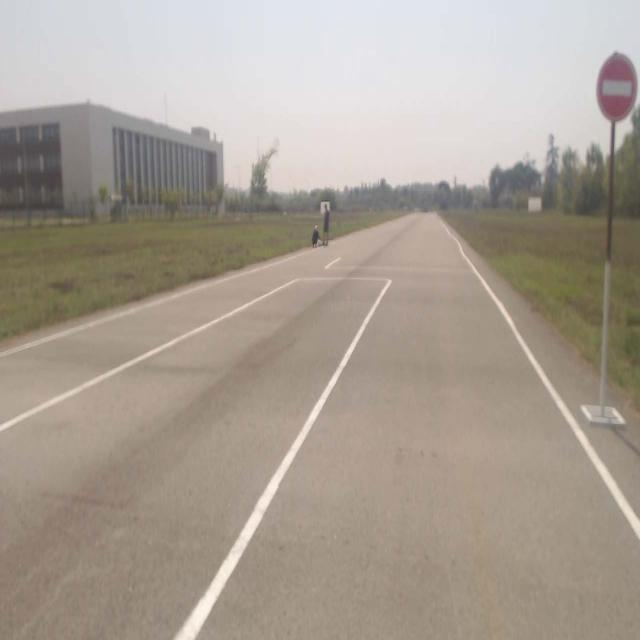girisyok: (597, 54, 637, 120)
